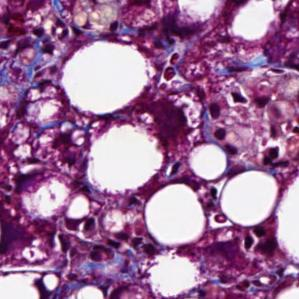inflammation: (159, 46, 249, 120), (64, 218, 160, 268), (209, 119, 299, 166), (26, 16, 73, 59)
